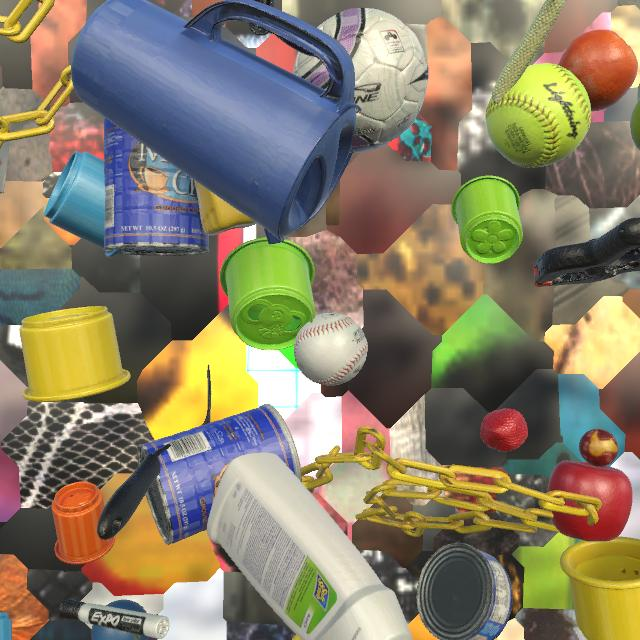ycb_002_master_chef_can: (137, 404, 302, 545), (104, 117, 209, 256)
ycb_004_sugar_box: (0, 113, 11, 193)
ycb_006_mustard_bottle: (194, 180, 257, 236)
ycb_007_tuna_fish_can: (416, 543, 513, 640)
ycb_012_strawberry: (480, 408, 528, 452)
ycb_013_apple: (547, 460, 633, 542)
ycb_016_pear: (630, 83, 640, 150)
ycb_017_orange: (558, 29, 638, 111)
